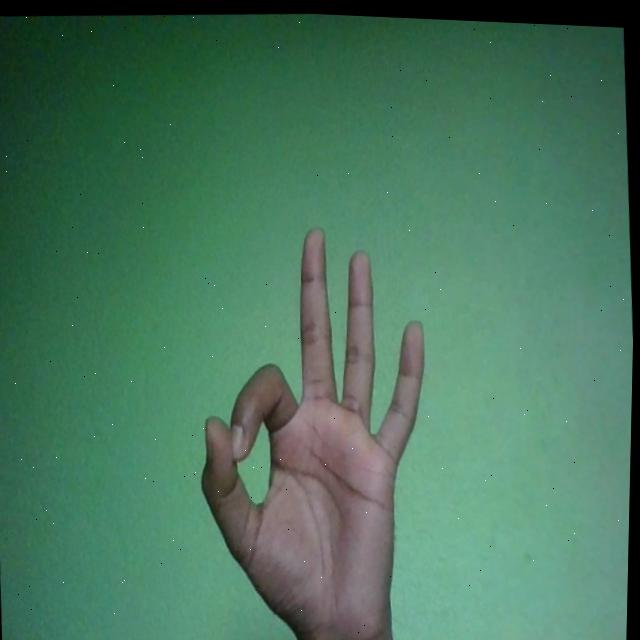Ok: (187, 215, 444, 640)
